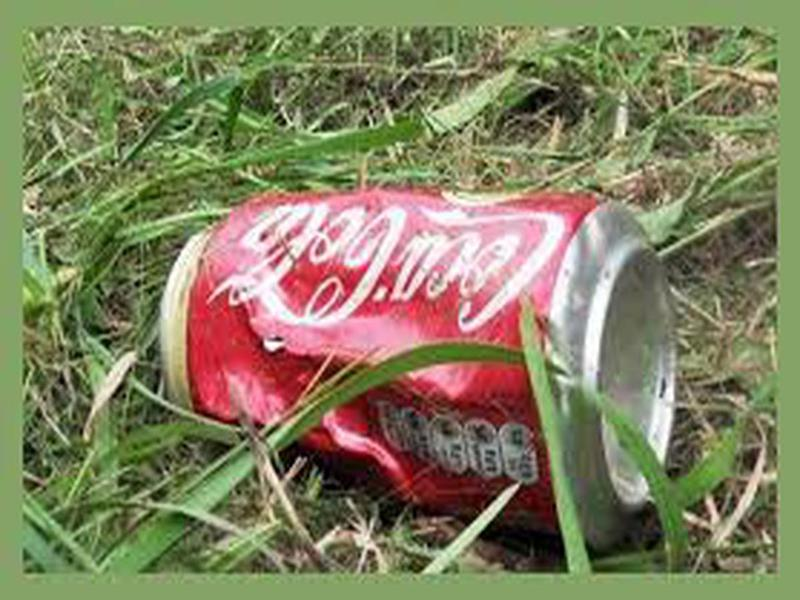can: (148, 186, 687, 542)
